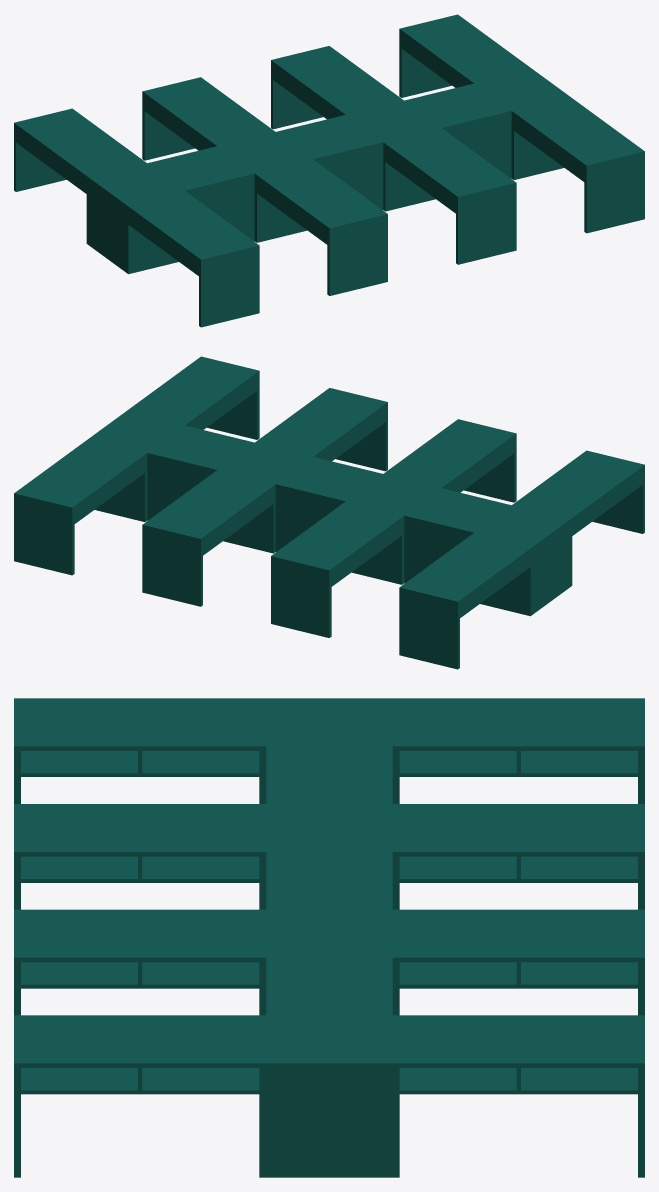
File: desks.fbx
3 views of the same model, one above another, from view 1: azimuth 30°, elevation 25°; view 2: azimuth 150°, elevation 25°; view 3: azimuth 270°, elevation 25° (orthographic). The views are drawn at different scales.
Parts seen in each view (by area): view 1: Cube; view 2: Cube; view 3: Cube.
Boxes of the visible parts, x1=… form: Cube: x1=14, y1=14, x2=644, y2=327; Cube: x1=14, y1=356, x2=644, y2=669; Cube: x1=14, y1=698, x2=644, y2=1177.
Size of the model in its own units: 500 by 685 by 100.
